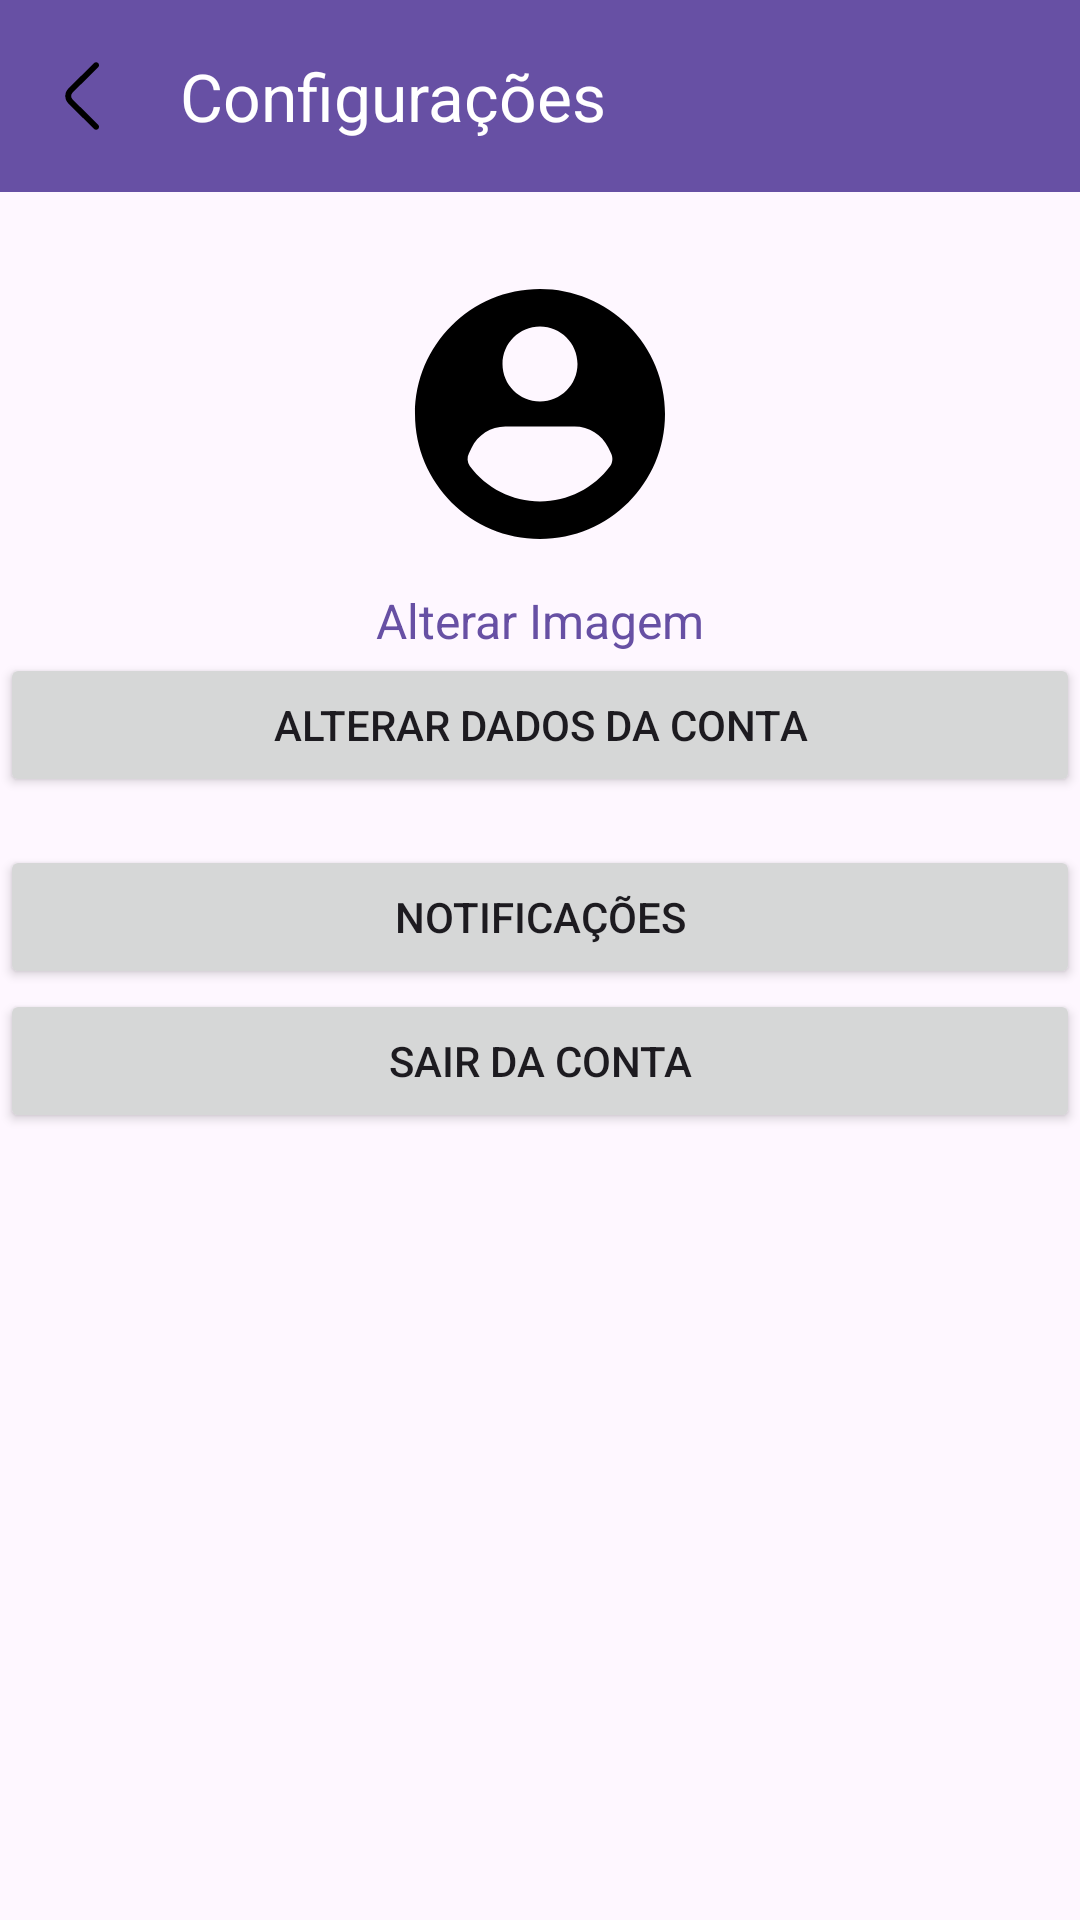

Screen size 1080 × 1920. Icon name, then its center in pixels as point (x, y):
profile: point (540, 414)
